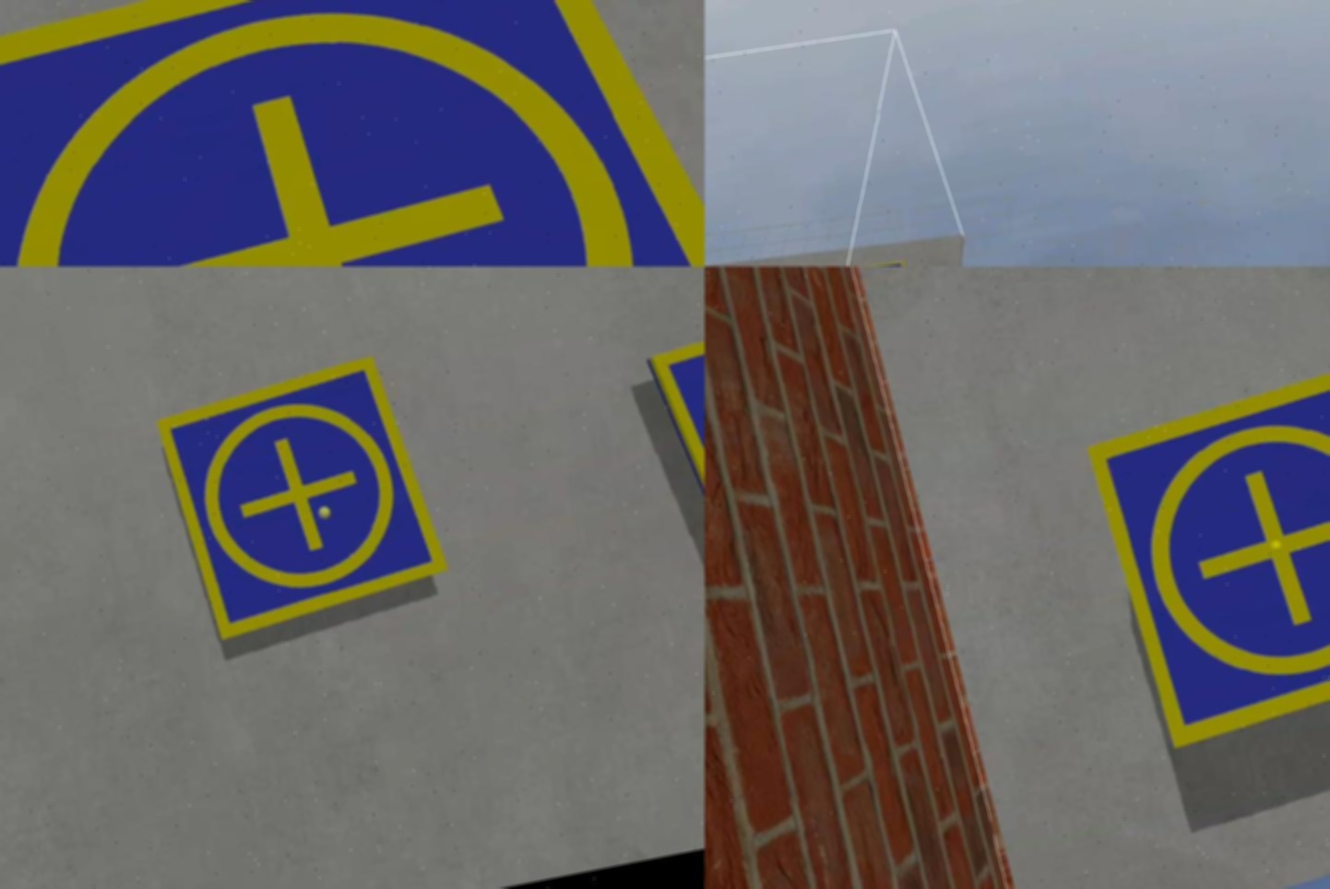small_base: (1, 1, 705, 267), (1076, 354, 1330, 762), (151, 349, 460, 652), (640, 297, 705, 590), (838, 255, 916, 267)
